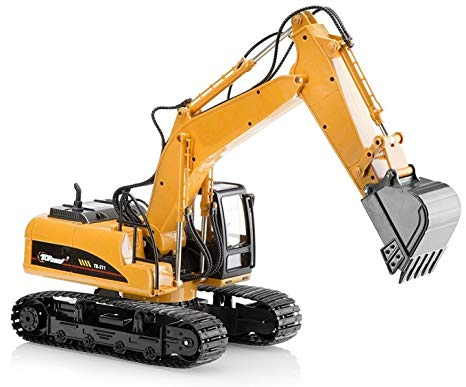backhoe: (10, 6, 466, 369)
